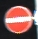No entry: (5, 5, 32, 34)
